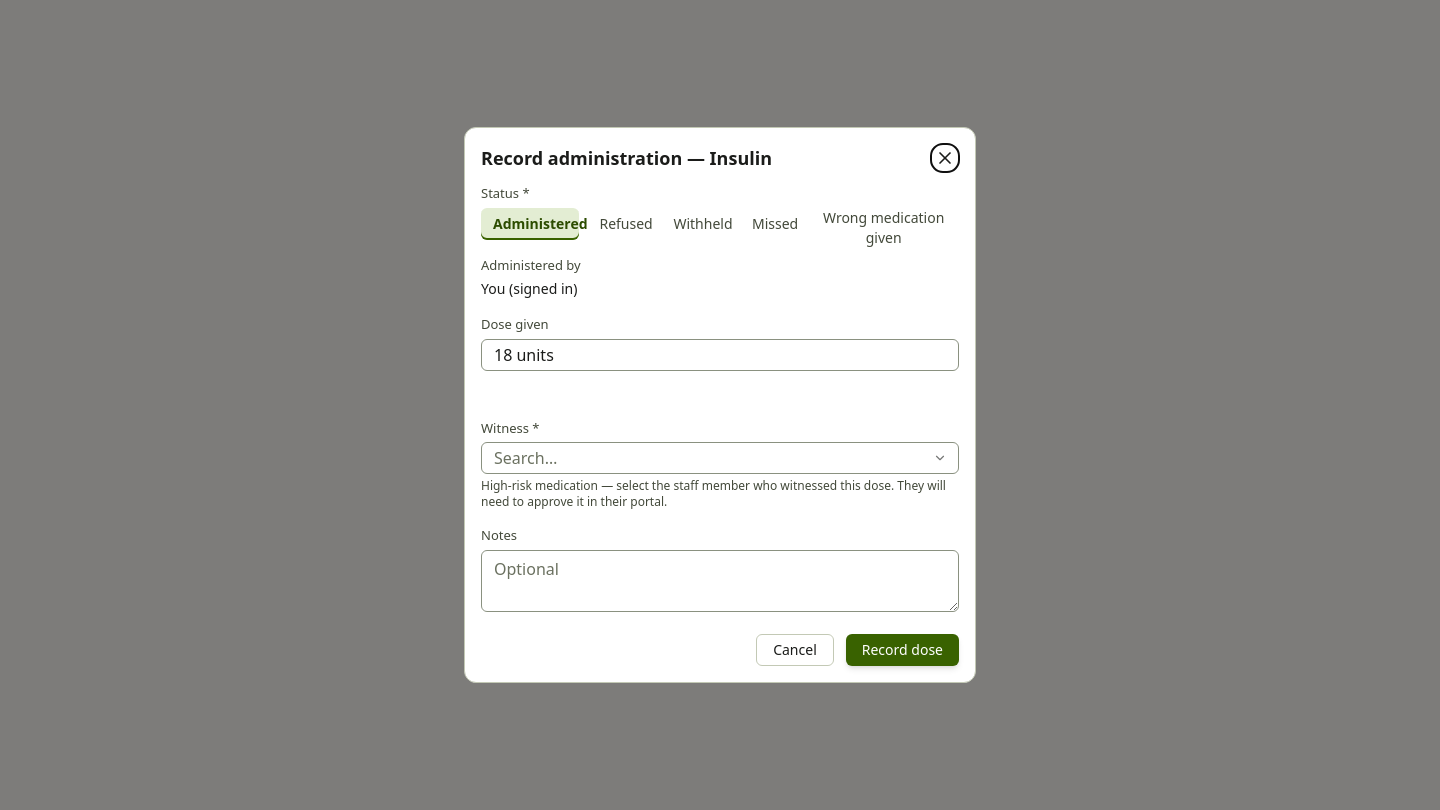
Test: RecordAdministrationModal witness picker › leaves the witness picker unchanged when the signed-in user has no resolvable id
Click the dropdown labelled "Witness *" at (720, 458), box [481,442,959,474]
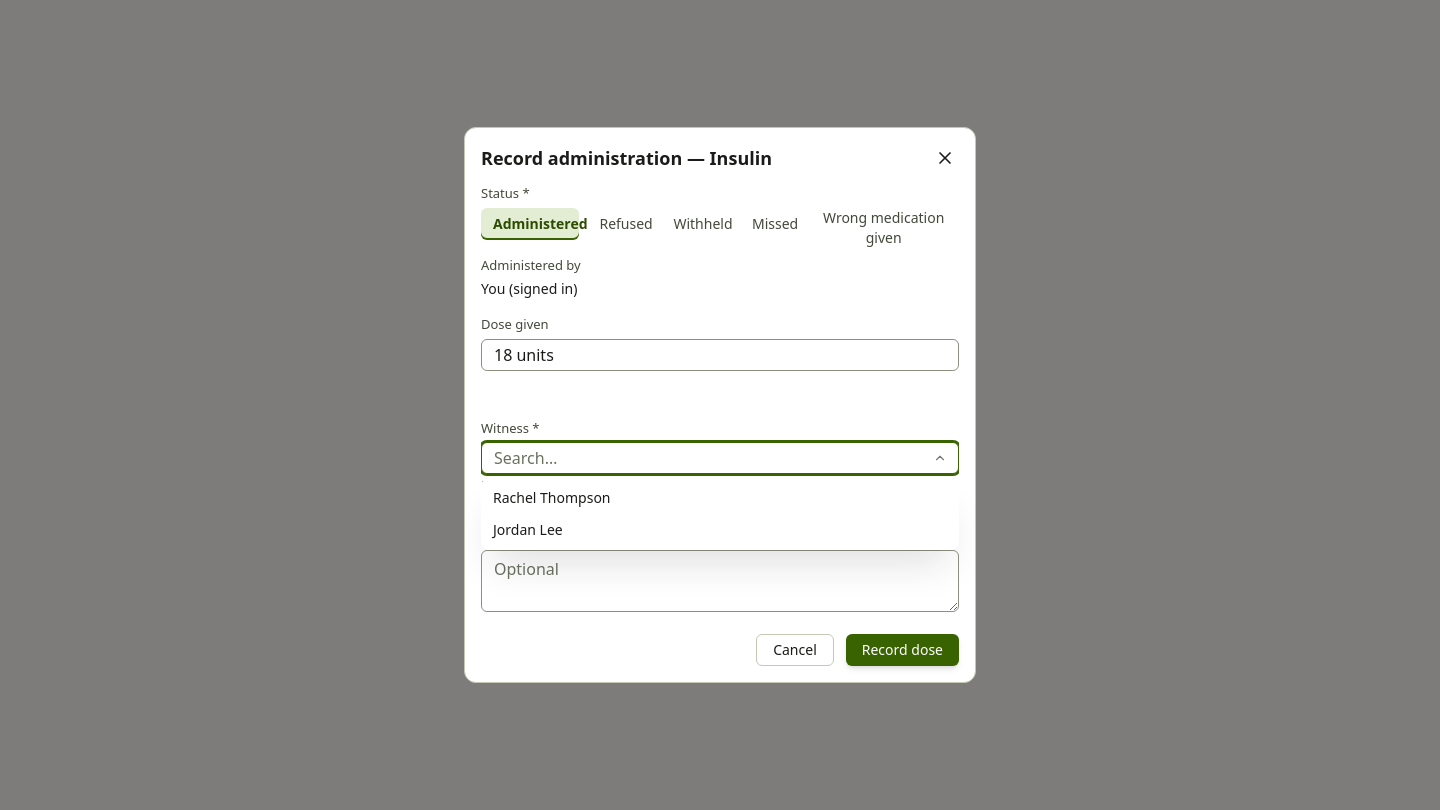
Check: the option "Rachel Thompson" is shown, box [493,488,610,507]
Check: the option "Jordan Lee" is shown, box [493,520,563,539]
